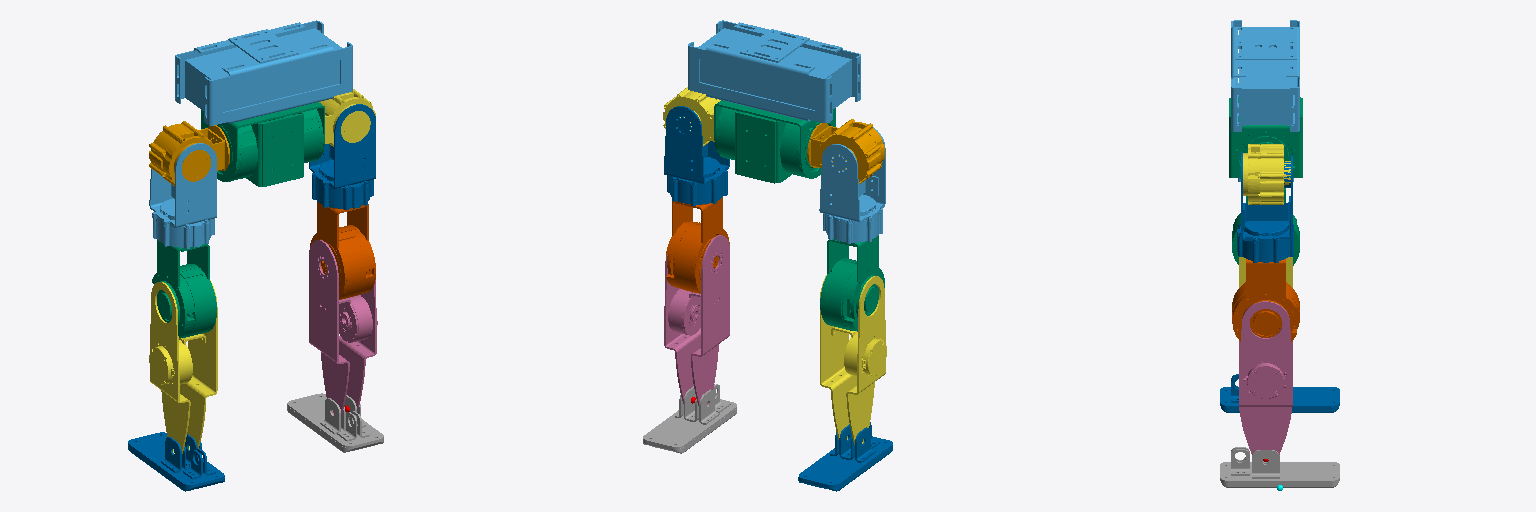
URDF robot description (ch_robot):
<?xml version='1.0' encoding='utf-8'?>
<robot name="ch_robot">

  <link name="world"/>

  <link name="torso">
    <inertial>
      <!-- Center of mass (meters) relative to the link frame -->
      <origin xyz="-0.15417 -0.030012 0.697219" rpy="0 0 0"/>
      <!-- Mass in kilograms -->
      <mass value="3.175"/>
      <!-- Inertia about the COM, expressed in the inertial frame axes (kg*m^2) -->
      <inertia
        ixx="5.173e-3"
        ixy="3.126e-17"
        ixz="1.463904e-6"
        iyy="1.947e-2"
        iyz="-1.478e-16"
        izz="2.099e-2"/>
    </inertial>

    <collision>
      <!-- box centered at torso frame -->
      <origin xyz="-0.154672 -0.03 0.6962" rpy="0 0 0" />
      <geometry>
        <box size="0.28 0.12 0.096" />
         <!-- <mesh filename="robot_meshes/visual/battery_box.stl" scale="0.001 0.001 0.001" /> -->
      </geometry>
    </collision>

    <visual>
      <!-- <origin xyz="0.281672 0.07751 -0.661236" rpy="0 0 0" /> -->
       <origin xyz="0 0 0" rpy="0 0 0" />
      <geometry>
        <mesh filename="robot_meshes/visual/battery_box.stl" scale="0.001 0.001 0.001" />
      </geometry>
    </visual>
  </link>

  <link name="hip">
    <inertial>
      <origin xyz="-0.155587 -0.02906 0.584318" rpy="0 0 0"/>
      <mass value="5.159055"/>
      <inertia ixx="0.0156"
              ixy="0.000178966"
              ixz="0.000001857794"
              iyy="0.02377"
              iyz="-0.000043706028"
              izz="0.02517"/>
    </inertial>

    <collision>
      <origin xyz="0 0 0" rpy="0 0 0" />
      <geometry>
        <mesh filename="robot_meshes/hip_ch.stl" scale="0.001 0.001 0.001" />
      </geometry>
    </collision>
    <visual>
      <origin xyz="0 0 0" rpy="0 0 0" />
      <geometry>
        <mesh filename="robot_meshes/visual/hip_dumb2.stl" scale="0.001 0.001 0.001" />
      </geometry>
    </visual>
  </link>

  <link name="left_leg1">
    <inertial>
      <origin xyz="-0.005945 -0.035287 0.577433" rpy="0 0 0"/>
      <mass value="2.189611"/>
      <inertia ixx="0.002609"
              ixy="0.000081259088"
              ixz="0.000001365266"
              iyy="0.003137"
              iyz="0.000000223227"
              izz="0.003391"/>
    </inertial>

    <collision>
      <origin xyz="0.068372 0.029495 -0.577401" rpy="0 0 0" />
      <geometry>
        <mesh filename="robot_meshes/left_leg1_ch.stl" scale="0.001 0.001 0.001" />
      </geometry>
    </collision>
    <visual>
      <origin xyz="0.068372 0.029495 -0.577401" rpy="0 0 0" />
      <geometry>
        <mesh filename="robot_meshes/visual/left_leg1_dumb.stl" scale="0.001 0.001 0.001" />
      </geometry>
    </visual>
  </link>

  <link name="left_leg2">
    <inertial>
      <origin xyz="-0.000018 -0.025475 0.486173" rpy="0 0 0"/>
      <mass value="1.709674"/>
      <inertia ixx="0.006082"
              ixy="0.000025844041"
              ixz="0.000000765045"
              iyy="0.005232"
              iyz="-0.0005798"
              izz="0.002818"/>
    </inertial>

    <collision>
      <origin xyz="4.8e-05 0.029495 -0.577401" rpy="0 0 0" />
      <geometry>
        <mesh filename="robot_meshes/left_leg2_ch.stl" scale="0.001 0.001 0.001" />
      </geometry>
    </collision>
    <visual>
      <origin xyz="4.8e-05 0.029495 -0.577401" rpy="0 0 0" />
      <geometry>
        <mesh filename="robot_meshes/visual/left_leg2_dumb.stl" scale="0.001 0.001 0.001" />
      </geometry>
    </visual>
  </link>

  <link name="left_leg3">
    <inertial>
      <origin xyz="0.005174 -0.030248 0.318931" rpy="0 0 0"/>
      <mass value="3.156742"/>
      <inertia ixx="0.009368"
              ixy="0.000046968418"
              ixz="0.0002014"
              iyy="0.0081"
              iyz="-0.000049473856"
              izz="0.004377"/>
    </inertial>

    <collision>
      <origin xyz="4.8e-05 0.029495 -0.463816" rpy="0 0 0" />
      <geometry>
        <mesh filename="robot_meshes/left_leg3_ch.stl" scale="0.001 0.001 0.001" />
      </geometry>
    </collision>
    <visual>
      <origin xyz="4.8e-05 0.029495 -0.463816" rpy="0 0 0" />
      <geometry>
        <mesh filename="robot_meshes/visual/left_leg3_dumb.stl" scale="0.001 0.001 0.001" />
      </geometry>
    </visual>
  </link>

  <link name="left_leg4">
    <inertial>
      <origin xyz="0.001337 -0.031134 0.183938" rpy="0 0 0"/>
      <mass value="1.980828"/>
      <inertia ixx="0.01171"
              ixy="-0.000022781438"
              ixz="0.0002839"
              iyy="0.01193"
              iyz="-0.0002341"
              izz="0.002972"/>
    </inertial>

    <collision>
      <origin xyz="4.8e-05 0.029495 -0.306338" rpy="0 0 0" />
      <geometry>
        <mesh filename="robot_meshes/left_leg4_ch.stl" scale="0.001 0.001 0.001" />
      </geometry>
    </collision>
    <visual>
      <origin xyz="4.8e-05 0.029495 -0.306338" rpy="0 0 0" />
      <geometry>
        <mesh filename="robot_meshes/visual/left_leg4_dumb.stl" scale="0.001 0.001 0.001" />
      </geometry>
    </visual>
  </link>

  <link name="left_foot">
    <inertial>
      <origin xyz="-0.00053 -0.020276 0.011109" rpy="0 0 0"/>
      <mass value="0.765723"/>
      <inertia ixx="0.002071"
              ixy="-0.000017795772"
              ixz="0.000002818065"
              iyy="0.0004678"
              iyz="0.0001167"
              izz="0.002213"/>
    </inertial>

    <material name="dbg_red"><color rgba="1 0 0 1"/></material>
    <material name="dbg_green"><color rgba="0 1 0 1"/></material>
    <material name="dbg_cyan"><color rgba="0 1 1 1"/></material>

    <visual name="dbg_origin">
      <origin xyz="0 0 0" rpy="0 0 0"/>
      <geometry><sphere radius="0.006"/></geometry>
      <material name="dbg_red"/>
    </visual>

    <visual name="dbg_bottom_center">
      <origin xyz="-0.01 0.025 -0.04263" rpy="0 0 0"/>
      <geometry><sphere radius="0.006"/></geometry>
      <material name="dbg_green"/>
    </visual>

    <visual name="dbg_toe_bottom">
      <origin xyz="0.03 0.025 -0.04263" rpy="0 0 0"/>
      <geometry><sphere radius="0.006"/></geometry>
      <material name="dbg_cyan"/>
    </visual>


    <collision>
      <origin xyz="-0.01 0.025 -0.035" rpy="0 0 0" />
      <geometry>
        <!-- <mesh filename="robot_meshes/left_foot_ch.stl" scale="0.001 0.001 0.001" /> -->
        <box size="0.08 0.21 0.01526"/>
      </geometry>
    </collision>
    <visual>
      <origin xyz="-0.00958 0.03 -0.031528" rpy="0 0 0" />
      <geometry>
        <mesh filename="robot_meshes/visual/left_foot.stl" scale="0.001 0.001 0.001" />
      </geometry>
    </visual>

    <visual>
      <origin xyz="0.3 0.03 -0.031528" rpy="0 0 0" />
      <geometry>
        <mesh filename="robot_meshes/visual/left_foot_sole.stl" scale="0.001 0.001 0.001" />
      </geometry>
    </visual>
  </link>

  <link name="right_leg1">
    <inertial>
      <origin xyz="-0.305326 -0.035287 0.577434" rpy="0 0 0"/>
      <mass value="2.189548"/>
      <inertia ixx="0.002609"
              ixy="-0.000081252869"
              ixz="-0.00000135392"
              iyy="0.003137"
              iyz="0.00000024481"
              izz="0.003391"/>
    </inertial>
    <collision>
      <origin xyz="0.2429 0.029495 -0.577401" rpy="0 0 0" />
      <geometry>
        <mesh filename="robot_meshes/right_leg1_ch.stl" scale="0.001 0.001 0.001" />
      </geometry>
    </collision>
    <visual>
      <origin xyz="0.2429 0.029495 -0.577401" rpy="0 0 0" />
      <geometry>
        <mesh filename="robot_meshes/visual/right_leg1_dumb.stl" scale="0.001 0.001 0.001" />
      </geometry>
    </visual>
  </link>
  
  <link name="right_leg2">
    <inertial>
      <origin xyz="-0.311252 -0.025506 0.485714" rpy="0 0 0"/>
      <mass value="1.709674"/>
      <inertia ixx="0.006082"
              ixy="-0.000025844041"
              ixz="-0.000000765045"
              iyy="0.005232"
              iyz="-0.0005798"
              izz="0.002818"/>
    </inertial>

    <collision>
      <origin xyz="0.311223 0.029495 -0.577401" rpy="0 0 0" />
      <geometry>
        <mesh filename="robot_meshes/right_leg2_ch.stl" scale="0.001 0.001 0.001" />
      </geometry>
    </collision>
    <visual>
      <origin xyz="0.311223 0.029495 -0.577401" rpy="0 0 0" />
      <geometry>
        <mesh filename="robot_meshes/visual/right_leg2_dumb.stl" scale="0.001 0.001 0.001" />
      </geometry>
    </visual>
  </link>
  <link name="right_leg3">
    <inertial>
      <origin xyz="-0.317293 -0.030266 0.31875" rpy="0 0 0"/>
      <mass value="3.156742"/>
      <inertia ixx="0.009368"
              ixy="-0.000046968418"
              ixz="-0.0002014"
              iyy="0.0081"
              iyz="-0.000049473856"
              izz="0.004377"/>
    </inertial>
    <collision>
      <origin xyz="0.311223 0.029495 -0.463816" rpy="0 0 0" />
      <geometry>
        <mesh filename="robot_meshes/right_leg3_ch.stl" scale="0.001 0.001 0.001" />
      </geometry>
    </collision>
    <visual>
      <origin xyz="0.311223 0.029495 -0.463816" rpy="0 0 0" />
      <geometry>
        <mesh filename="robot_meshes/visual/right_leg3_dumb.stl" scale="0.001 0.001 0.001" />
      </geometry>
    </visual>
  </link>
  <link name="right_leg4">
    <inertial>
      <origin xyz="-0.312608 -0.031134 0.183938" rpy="0 0 0"/>
      <mass value="1.980828"/>
      <inertia ixx="0.01171"
              ixy="0.000022781459"
              ixz="-0.0002839"
              iyy="0.01193"
              iyz="-0.0002341"
              izz="0.002972"/>
    </inertial>
    <collision>
      <origin xyz="0.311223 0.029495 -0.306338" rpy="0 0 0" />
      <geometry>
        <mesh filename="robot_meshes/right_leg4_ch.stl" scale="0.001 0.001 0.001" />
      </geometry>
    </collision>
    <visual>
      <origin xyz="0.311223 0.029495 -0.306338" rpy="0 0 0" />
      <geometry>
        <mesh filename="robot_meshes/visual/right_leg4_dumb.stl" scale="0.001 0.001 0.001" />
      </geometry>
    </visual>
  </link>
  
  <link name="right_foot">
    <inertial>
      <origin xyz="-0.310741 -0.020276 0.011109" rpy="0 0 0"/>
      <mass value="0.765723"/>
      <inertia ixx="0.002071"
              ixy="0.000017795772"
              ixz="-0.000002818065"
              iyy="0.0004678"
              iyz="0.0001167"
              izz="0.002213"/>
    </inertial>


    <visual name="dbg_toe_bottom">
      <origin xyz="0.01 0.025 -0.04263" rpy="0 0 0"/>
      <geometry><sphere radius="0.006"/></geometry>
      <material name="dbg_cyan"/>
    </visual>

    <collision>
      <origin xyz="0.01 0.025 -0.035" rpy="0 0 0" />
      <geometry>
        <!-- <mesh filename="robot_meshes/right_foot_ch.stl" scale="0.001 0.001 0.001" /> -->
        <box size="0.08 0.21 0.01526"/>
      </geometry>
    </collision>
    <visual>
      <origin xyz="0.320851 0.03 -0.031528" rpy="0 0 0" />
      <geometry>
        <mesh filename="robot_meshes/visual/right_foot.stl" scale="0.001 0.001 0.001" />
      </geometry>
    </visual>

    <visual>
      <origin xyz="0.01 0.03 -0.031528" rpy="0 0 0" />
      <geometry>
        <mesh filename="robot_meshes/visual/right_foot_sole.stl" scale="0.001 0.001 0.001" />
      </geometry>
    </visual>
  </link>

  <!-- THIS JOINT MOVES THE ENTIRE BODY  -->
  <joint name="world_to_base" type="fixed">
    <parent link="world"/>
    <child link="torso"/>
    <!-- This is the shift you observed on hip+legs when hip_to_torso was set -->
    <origin xyz="0.155 0.016 -0.63" rpy="0 0 0"/>
  </joint>

  <joint name="torso_to_hip" type="fixed">
    <parent link="torso"/>
    <child  link="hip"/>
    <!-- torso frame position relative to hip frame -->
    <origin xyz="0 0 0" rpy="0 0 0"/>
  </joint>

  <joint name="left_hip1_joint" type="revolute">
    <parent link="hip" />
    <child link="left_leg1" />
    <origin xyz="-0.068372 -0.029495 0.577401" rpy="0 0 0" />
    <axis xyz="1.0 0.0 0.0" />
    <limit lower="-1.57" upper="1.57" effort="100" velocity="5.0" />
    <dynamics damping="1.0" />
  </joint><joint name="left_hip2_joint" type="revolute">
    <parent link="left_leg1" />
    <child link="left_leg2" />
    <origin xyz="0.068324 0 0" rpy="0 0 0" />
    <axis xyz="0.0 1.0 0.0" />
    <limit lower="-1.57" upper="0.436332" effort="100" velocity="5.0" />
    <dynamics damping="1.0" />
  </joint><joint name="left_thigh_joint" type="revolute">
    <parent link="left_leg2" />
    <child link="left_leg3" />
    <origin xyz="0 0 -0.113585" rpy="0 0 0" />
    <axis xyz="0.0 0.0 -1.0" />
    <limit lower="-0.785398" upper="0.785398" effort="100" velocity="5.0" />
    <dynamics damping="1.0" />
  </joint><joint name="left_knee_joint" type="revolute">
    <parent link="left_leg3" />
    <child link="left_leg4" />
    <origin xyz="0 0 -0.157478" rpy="0 0 0" />
    <axis xyz="1.0 0.0 0.0" />
    <limit lower="-2.0944" upper="0" effort="100" velocity="5.0" />
    <dynamics damping="1.0" />
  </joint><joint name="left_ankle_joint" type="revolute">
    <parent link="left_leg4" />
    <child link="left_foot" />
    <origin xyz="0.009628 -0.000505 -0.27481" rpy="0 0 0" />
    <axis xyz="1.0 0.0 0.0" />
    <limit lower="-0.6" upper="0.6" effort="100" velocity="5.0" />
    <dynamics damping="1.0" />
  </joint><joint name="right_hip1_joint" type="revolute">
    <parent link="hip" />
    <child link="right_leg1" />
    <origin xyz="-0.2429 -0.029495 0.577401" rpy="0 0 0" />
    <axis xyz="1.0 0.0 0.0" />
    <limit lower="-1.57" upper="1.57" effort="100" velocity="5.0" />
    <dynamics damping="1.0" />
  </joint><joint name="right_hip2_joint" type="revolute">
    <parent link="right_leg1" />
    <child link="right_leg2" />
    <origin xyz="-0.068323 0 0" rpy="0 0 0" />
    <axis xyz="0.0 1.0 0.0" />
    <limit lower="-0.436332" upper="1.57" effort="100" velocity="5.0" />
    <dynamics damping="1.0" />
  </joint><joint name="right_thigh_joint" type="revolute">
    <parent link="right_leg2" />
    <child link="right_leg3" />
    <origin xyz="0 0 -0.113585" rpy="0 0 0" />
    <axis xyz="0.0 0.0 1.0" />
    <limit lower="-0.785398" upper="0.785398" effort="100" velocity="5.0" />
    <dynamics damping="1.0" />
  </joint><joint name="right_knee_joint" type="revolute">
    <parent link="right_leg3" />
    <child link="right_leg4" />
    <origin xyz="0 0 -0.157478" rpy="0 0 0" />
    <axis xyz="1.0 0.0 0.0" />
    <limit lower="-2.0944" upper="0" effort="100" velocity="5.0" />
    <dynamics damping="1.0" />
  </joint><joint name="right_ankle_joint" type="revolute">
    <parent link="right_leg4" />
    <child link="right_foot" />
    <origin xyz="-0.009628 -0.000505 -0.27481" rpy="0 0 0" />
    <axis xyz="1.0 0.0 0.0" />
    <limit lower="-0.6" upper="0.6" effort="100" velocity="5.0" />
    <dynamics damping="1.0" />
  </joint>
</robot>

<!-- 
Note this urdf is offset because the fusion360 mesh export was done with reference 
to a global coordinate frame positioned at the foot. 

The ranges are as follows:


-->

--- Facts derived from the render (not from the file) ---
Views: 3 orthographic renders of the robot side by side, from view 1: azimuth 30°, elevation 25°; view 2: azimuth 150°, elevation 25°; view 3: azimuth 270°, elevation 25°.
Model ch_robot with 13 links and 12 joints (10 revolute, 2 fixed), rooted at world, posed all joints at 0.
Visible links, largest first — view 1: torso, left_leg4, right_leg4, hip, right_leg2, left_leg2, right_leg3, left_leg3, right_leg1, right_foot, left_foot, left_leg1; view 2: torso, left_leg4, right_leg4, hip, right_leg2, left_leg2, right_leg3, left_leg3, left_foot, right_foot, right_leg1, left_leg1; view 3: torso, left_leg4, left_foot, left_leg3, left_leg2, left_leg1, hip, right_foot, right_leg3.
Link boxes in pixels (<box>): torso: <box>175,20,352,125</box>; left_leg4: <box>309,240,377,416</box>; right_leg4: <box>149,280,217,453</box>; hip: <box>201,102,324,186</box>; right_leg2: <box>149,133,216,248</box>; left_leg2: <box>309,104,375,209</box>; right_leg3: <box>152,240,216,337</box>; left_leg3: <box>309,202,375,299</box>; right_leg1: <box>149,121,229,185</box>; right_foot: <box>128,432,224,491</box>; left_foot: <box>287,393,383,452</box>; left_leg1: <box>319,89,375,146</box>; torso: <box>688,20,860,122</box>; left_leg4: <box>664,235,729,405</box>; right_leg4: <box>820,275,886,444</box>; hip: <box>714,100,835,183</box>; right_leg2: <box>819,124,885,243</box>; left_leg2: <box>664,106,729,205</box>; right_leg3: <box>820,235,884,331</box>; left_leg3: <box>666,197,729,293</box>; left_foot: <box>643,384,736,453</box>; right_foot: <box>798,422,892,491</box>; right_leg1: <box>807,119,884,183</box>; left_leg1: <box>663,87,720,146</box>; torso: <box>1231,20,1299,131</box>; left_leg4: <box>1239,301,1292,454</box>; left_foot: <box>1220,447,1339,490</box>; left_leg3: <box>1232,259,1299,341</box>; left_leg2: <box>1237,152,1293,262</box>; left_leg1: <box>1243,144,1290,204</box>; hip: <box>1229,97,1302,178</box>; right_foot: <box>1220,374,1339,412</box>; right_leg3: <box>1232,188,1299,265</box>.
Size in the robot's own frame: 0.4118 by 0.21 by 0.765 metres.
14 mesh visuals loaded from 14 distinct referenced files (14 binary STL).
